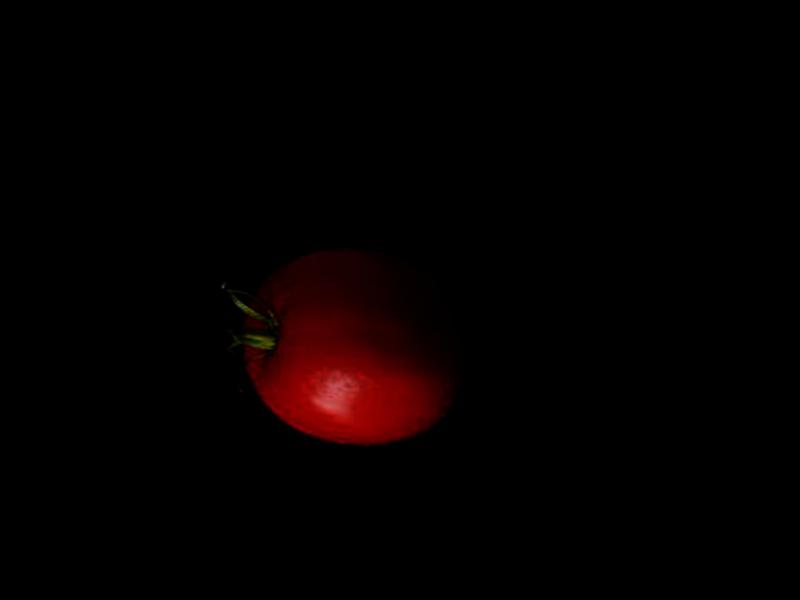Tomato: (226, 231, 476, 460)
